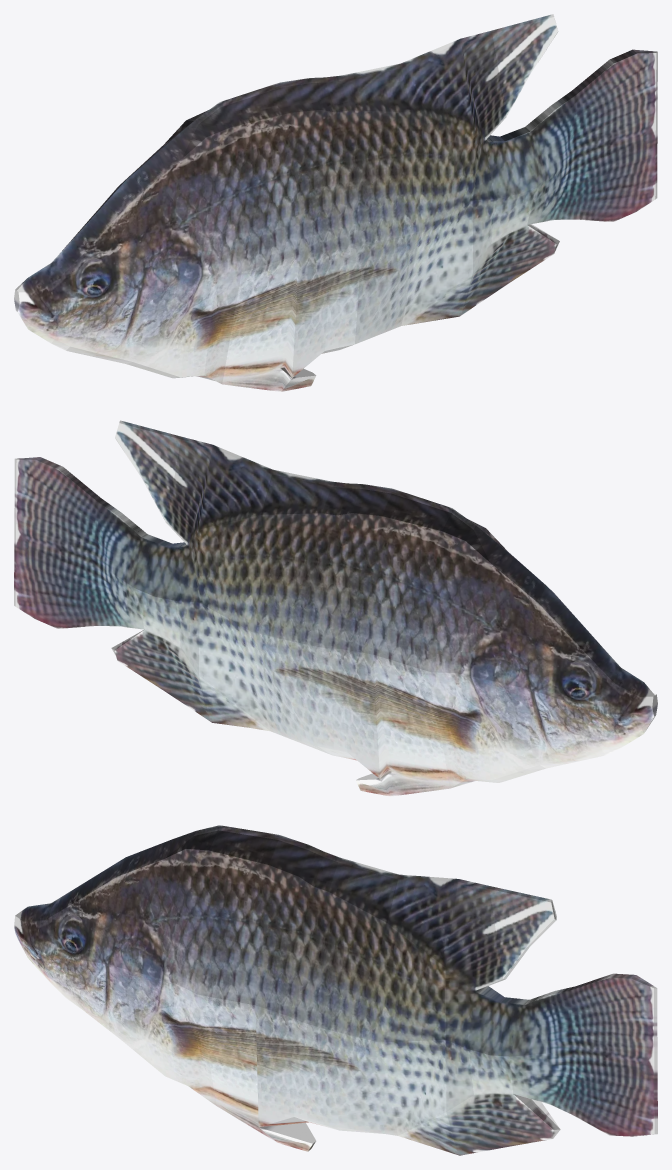
The model's file is AR_Species_Tilapia.fbx.
3 renders of one model, top to bottom at view 1: azimuth 30°, elevation 25°; view 2: azimuth 150°, elevation 25°; view 3: azimuth 330°, elevation 25°, orthographic.
Parts seen in each view (by area): view 1: TilapiaMMD.001; view 2: TilapiaMMD.001; view 3: TilapiaMMD.001.
Part boxes in pixels (left/top/right/bottom): TilapiaMMD.001: left=14, top=14, right=657, bottom=391; TilapiaMMD.001: left=14, top=420, right=657, bottom=796; TilapiaMMD.001: left=14, top=825, right=657, bottom=1155.
Bounding box in the file's own units: 192 × 89.12 × 22.86.
1 material, 1 textured.
